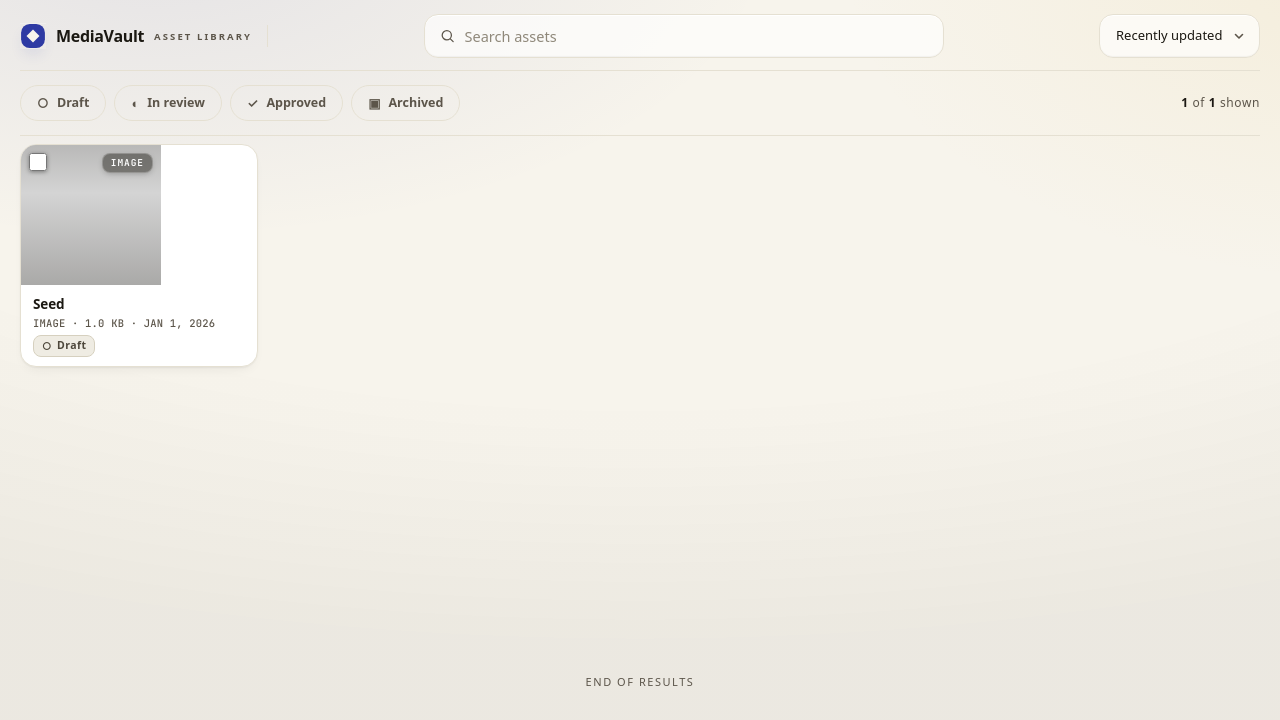
search pipeline › coalesces fast typing into a single debounced request
Type "t" into the search field at (684, 36), box [424, 14, 944, 58]
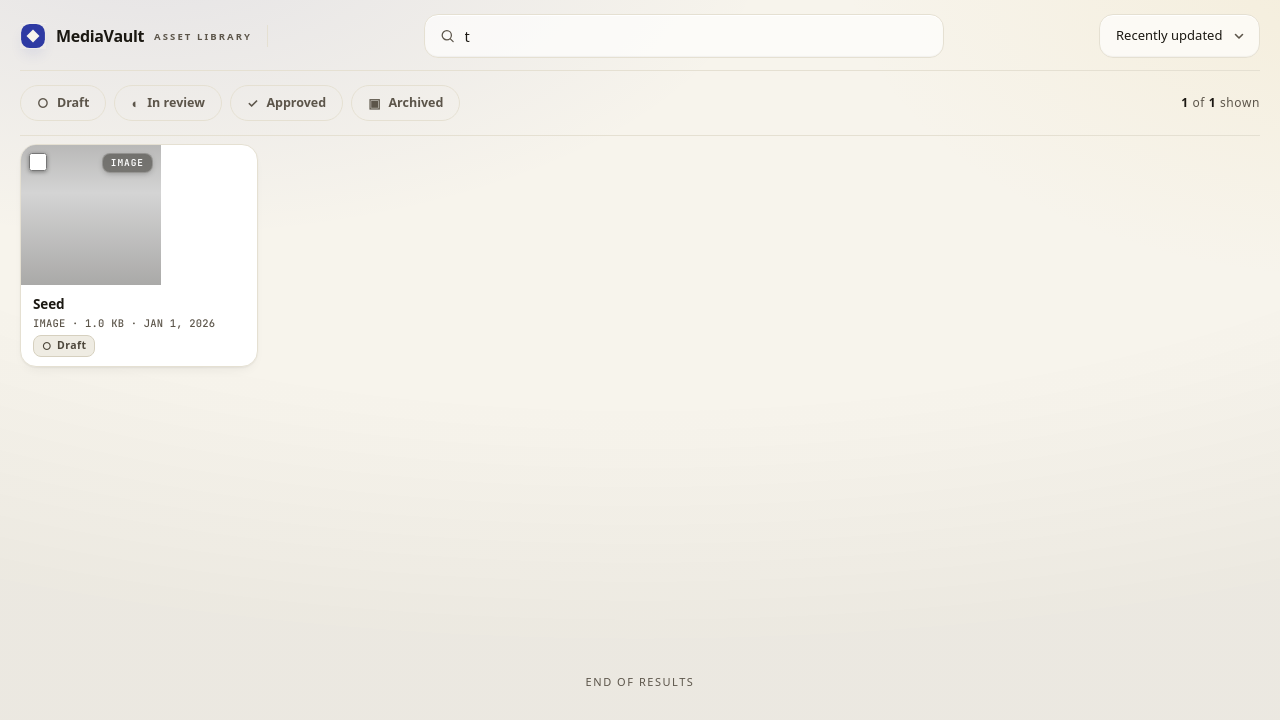
Replace the text in the search field with "tr" at (684, 36), box [424, 14, 944, 58]
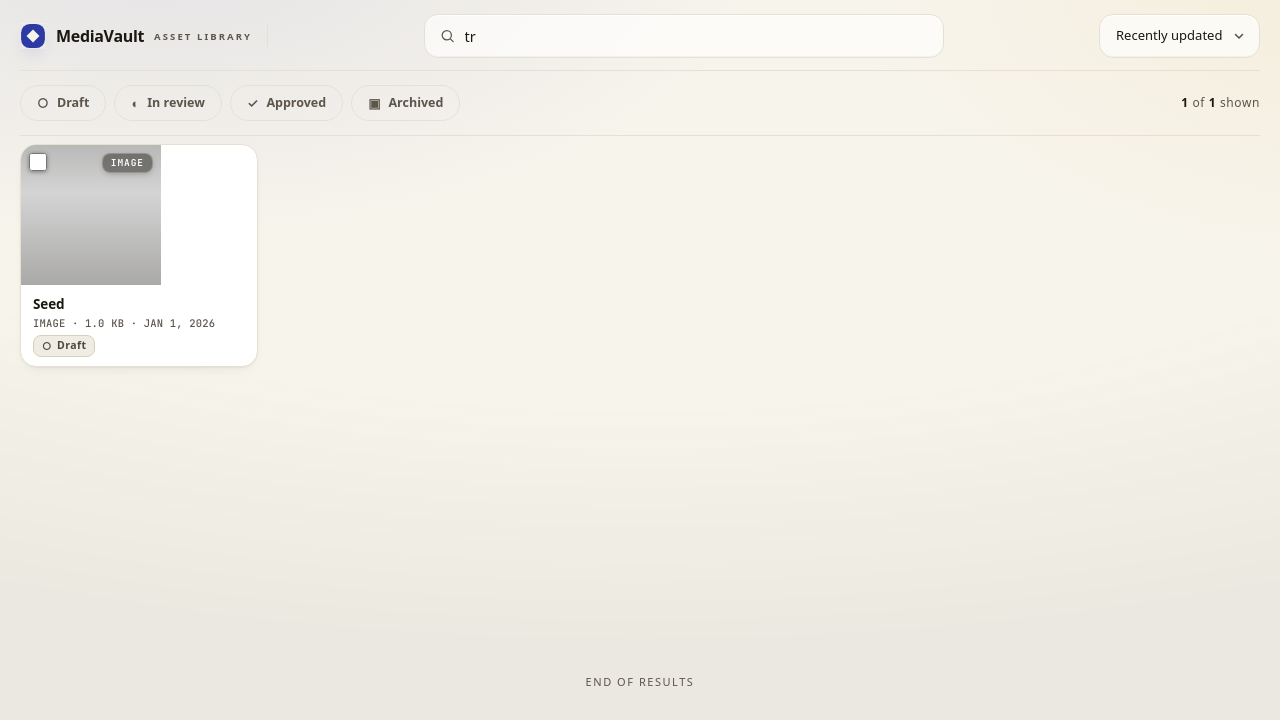
Replace the text in the search field with "tra" at (684, 36), box [424, 14, 944, 58]
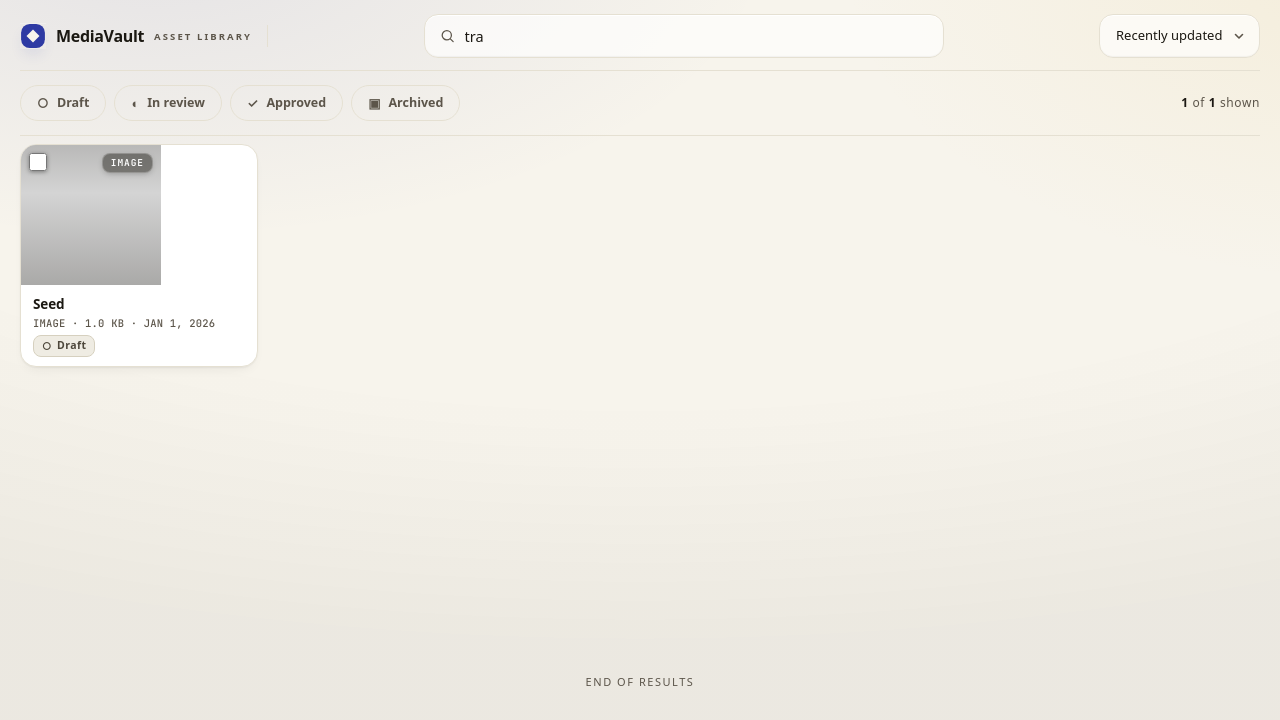
Replace the text in the search field with "trail" at (684, 36), box [424, 14, 944, 58]
Wait 400 ms
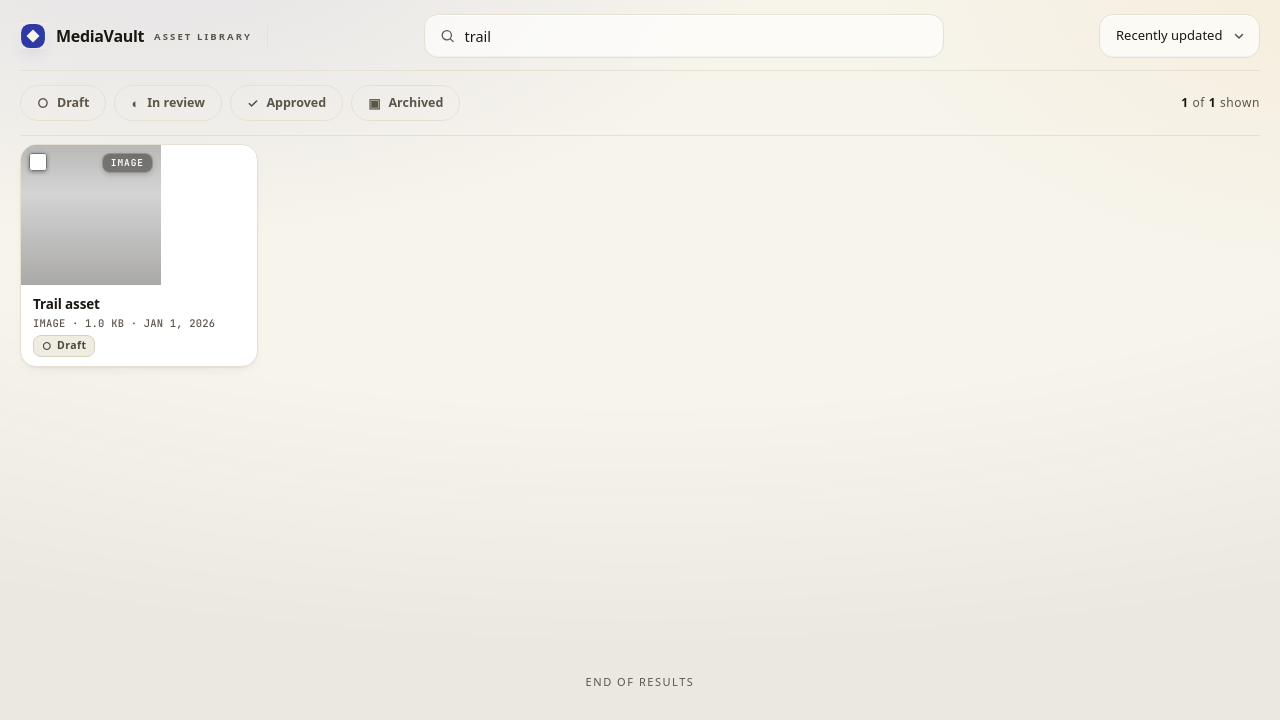
Expected: the text "Trail asset" is shown, [33, 295, 100, 313]
